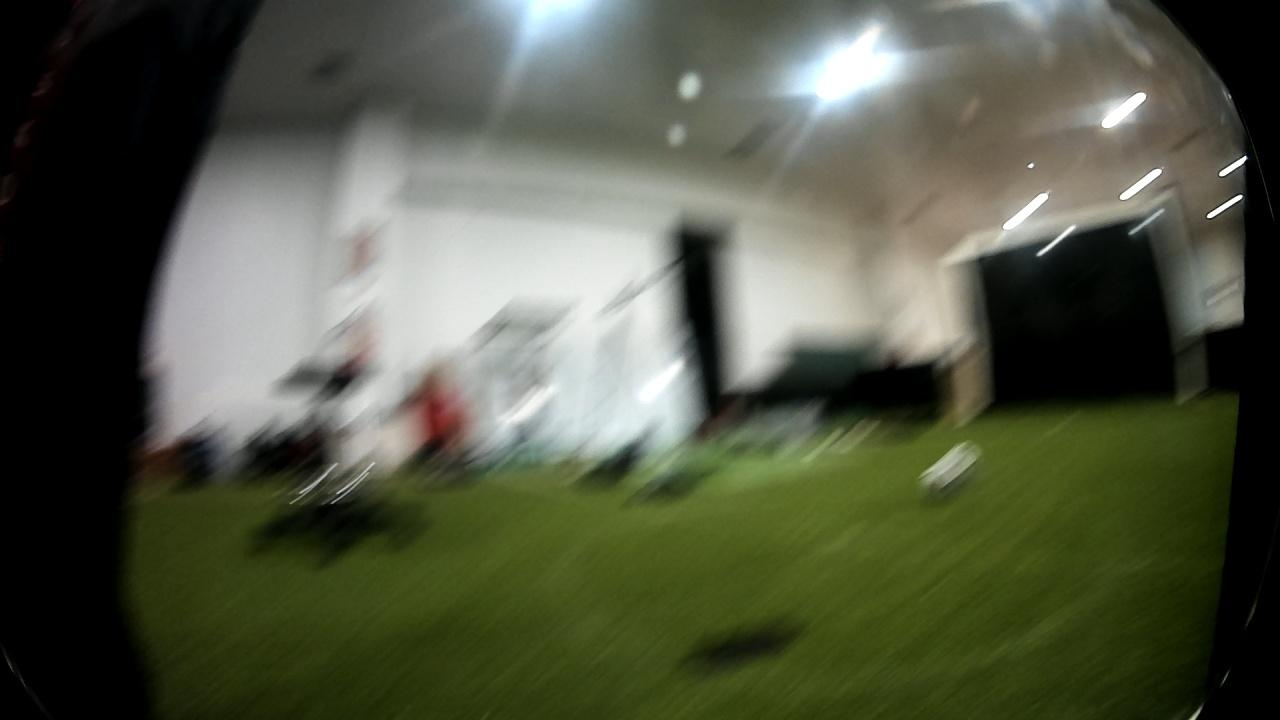ball: (910, 437, 985, 503)
